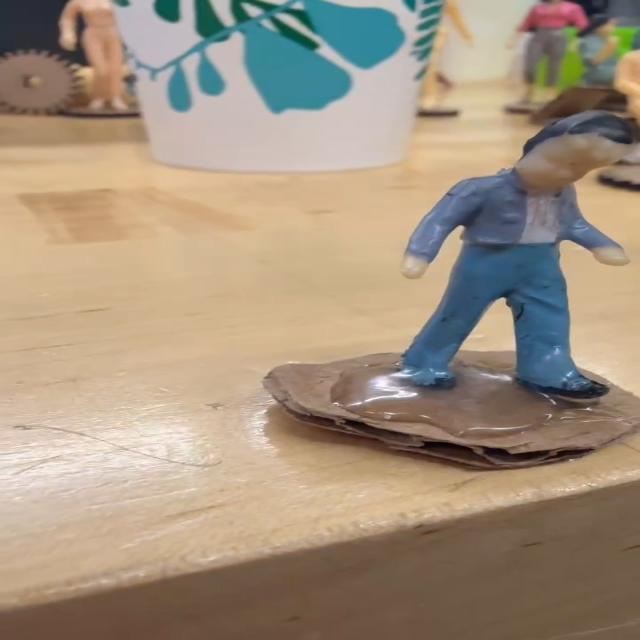Authorized: (373, 59, 640, 567)
